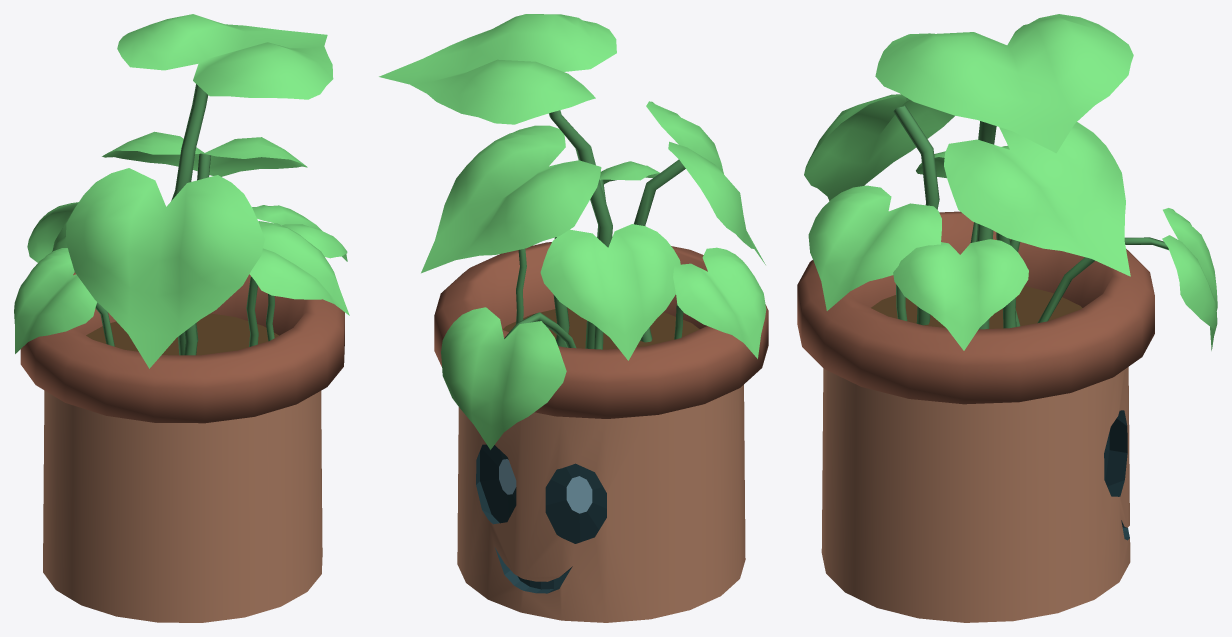
File: Plantas.02.fbx
The picture shows the model from 3 angles, left to right: view 1: azimuth 30°, elevation 25°; view 2: azimuth 150°, elevation 25°; view 3: azimuth 270°, elevation 25°; orthographic projection. The views are drawn at different scales.
Parts seen in each view (by area): view 1: Planta.003; view 2: Planta.003; view 3: Planta.003.
Part boxes in pixels (x1,y1,x2,y2): Planta.003: (14, 14, 349, 622); Planta.003: (379, 14, 768, 622); Planta.003: (797, 14, 1217, 622).
Bounding box in the file's own units: 1.16 × 1.13 × 1.64.
